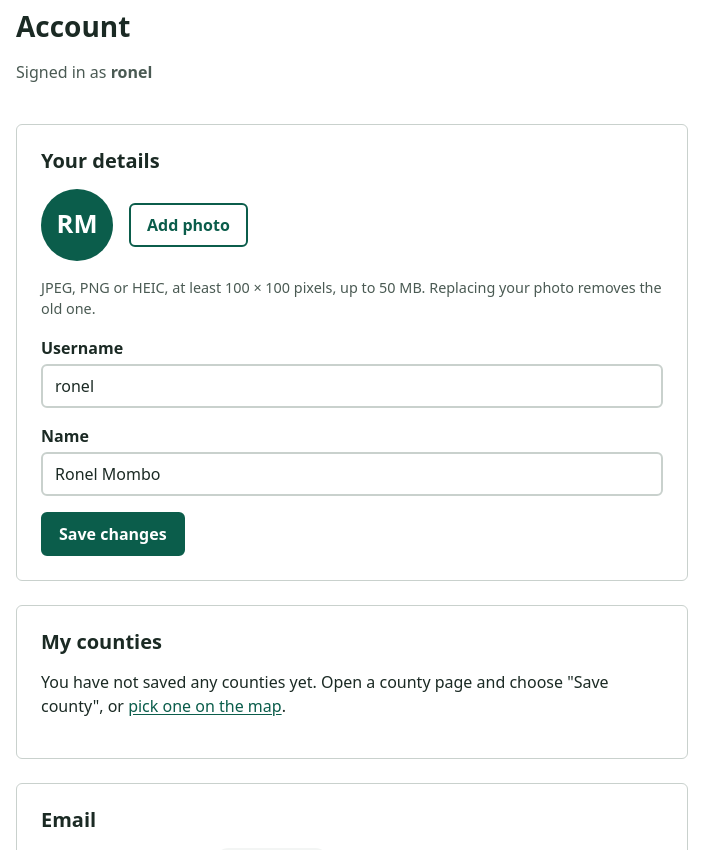
it: Profile page: details › saves the username and name, loads the profile again and says it is saved
Replace the text in the field labelled "Name" with "Ronel M" at point(352, 474), box [41,452,663,496]
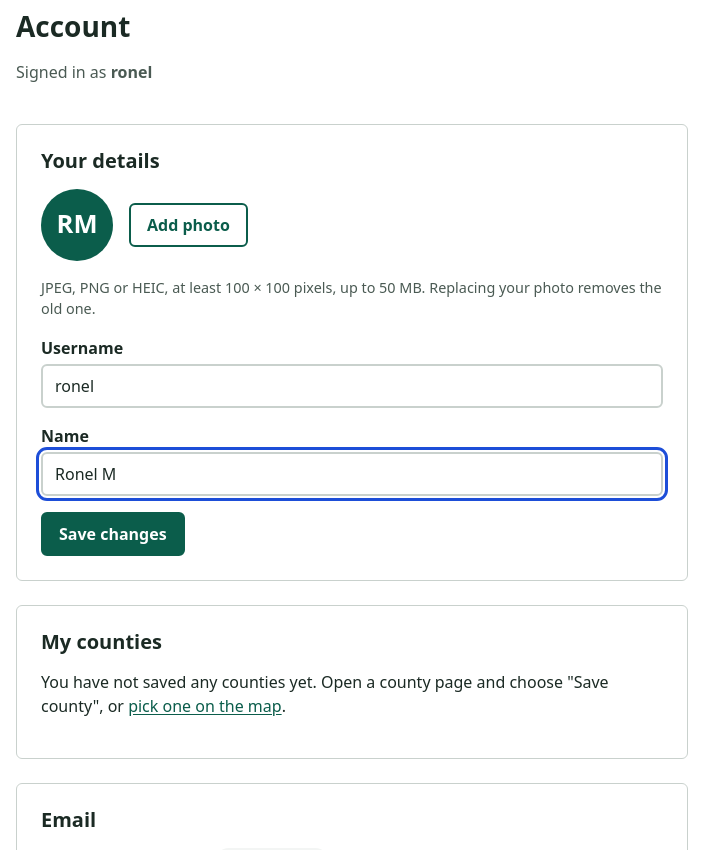
Click the button "Save changes" at point(113, 534), box [41,512,185,556]
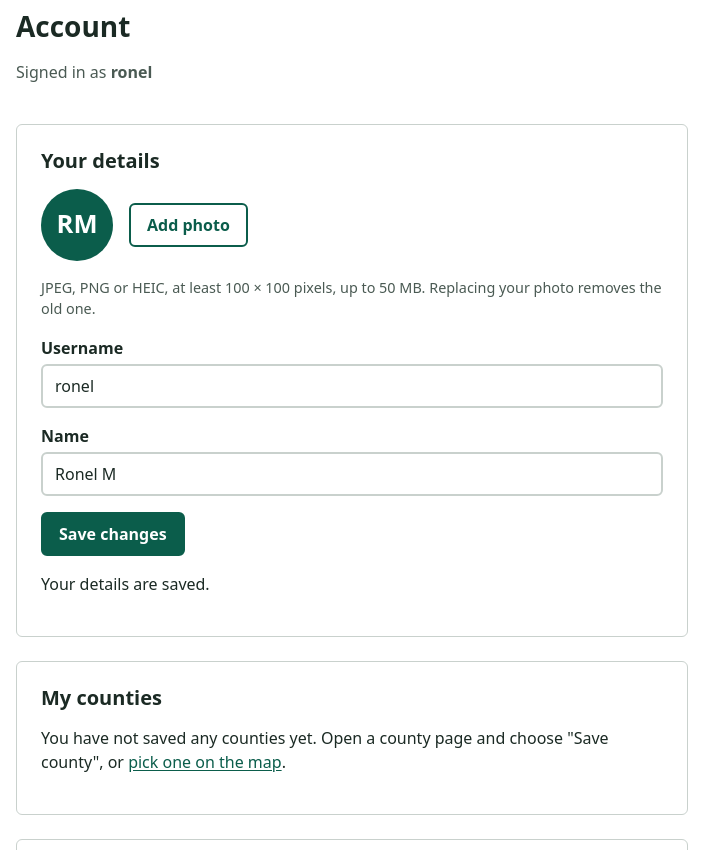
Result: the text "Your details are saved." is shown at [41,573,210,595]
